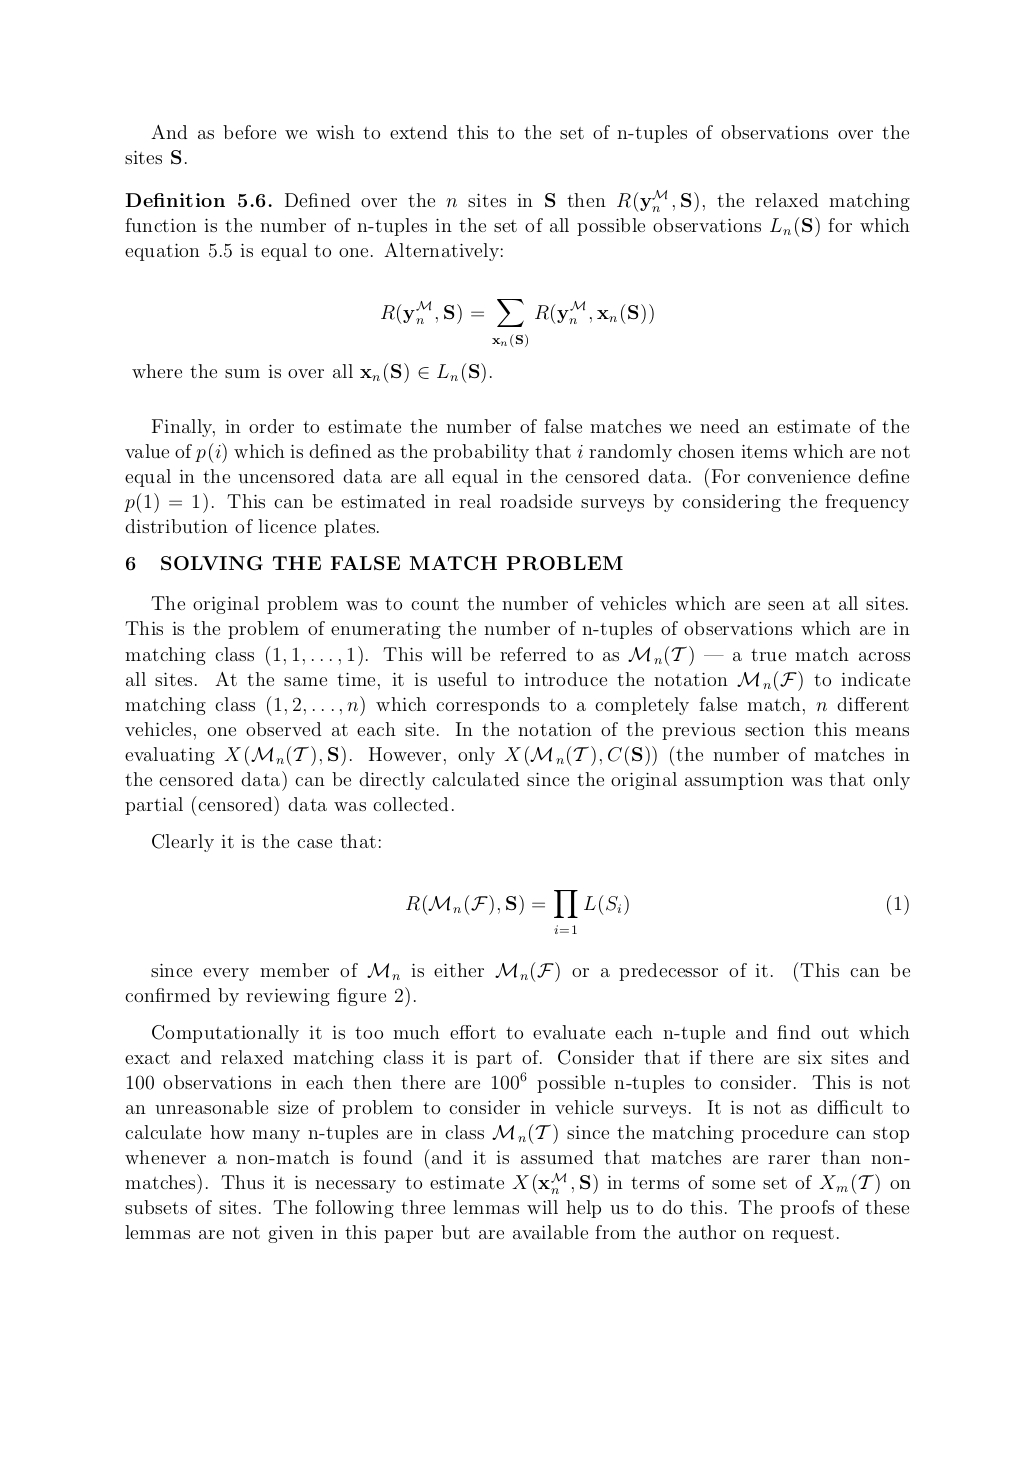formula: (406, 890, 908, 933), (380, 299, 653, 347)
